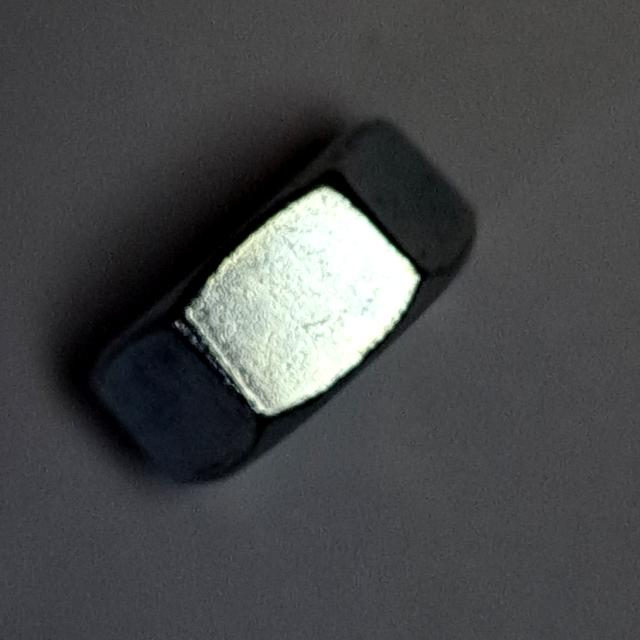Side_Excellent: (70, 102, 486, 499)
